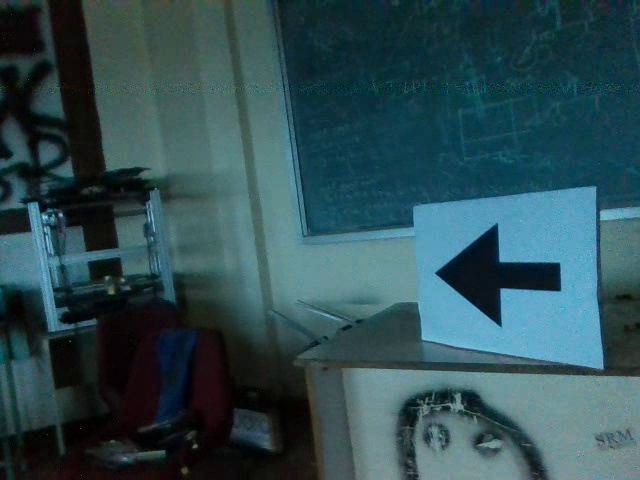Left: (430, 218, 571, 331)
